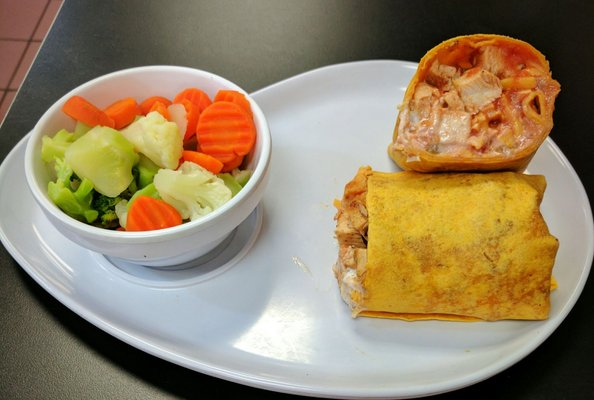soup: (332, 166, 558, 321), (387, 34, 559, 174)
sushi: (23, 64, 271, 267)
